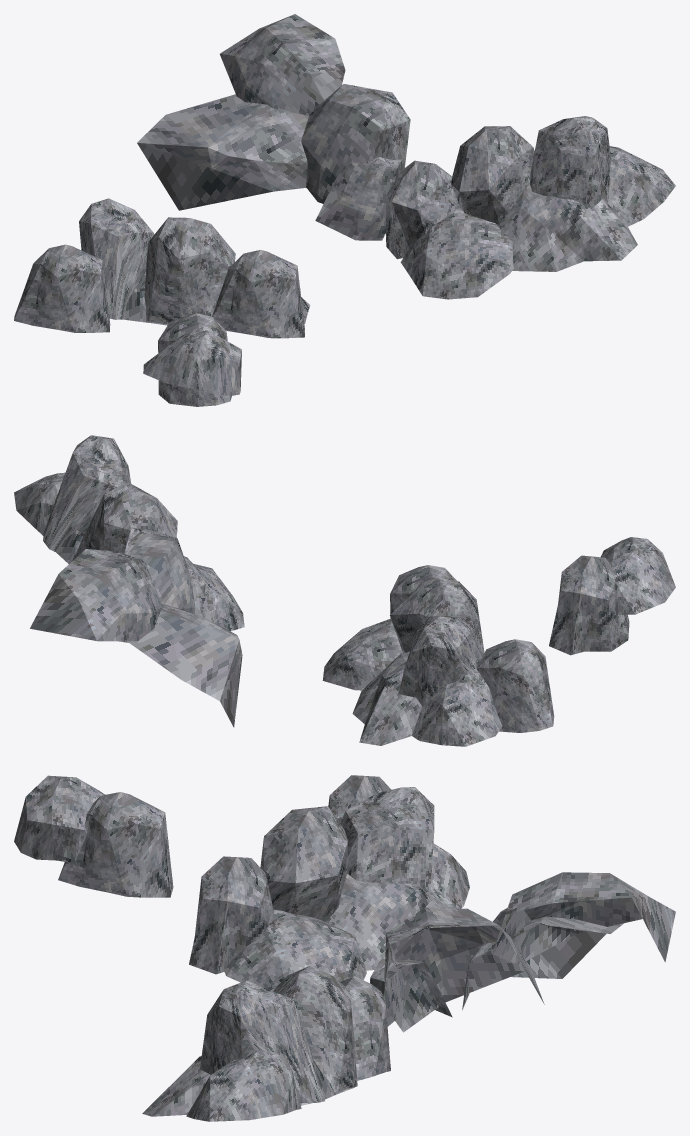
Rendered from lod_rockgp1_07.obj.
3 renders of one model, top to bottom at view 1: azimuth 30°, elevation 25°; view 2: azimuth 150°, elevation 25°; view 3: azimuth 270°, elevation 25°, orthographic. The views are drawn at different scales.
Parts seen in each view (by area): view 1: lod_rockgp1_07; view 2: lod_rockgp1_07; view 3: lod_rockgp1_07.
Boxes of the visible parts, <box> form: lod_rockgp1_07: <box>14,14,675,406</box>; lod_rockgp1_07: <box>14,435,675,746</box>; lod_rockgp1_07: <box>14,775,675,1121</box>.
Bounding box in the file's own units: 138 × 36.15 × 113.
2 materials, 2 textured.
